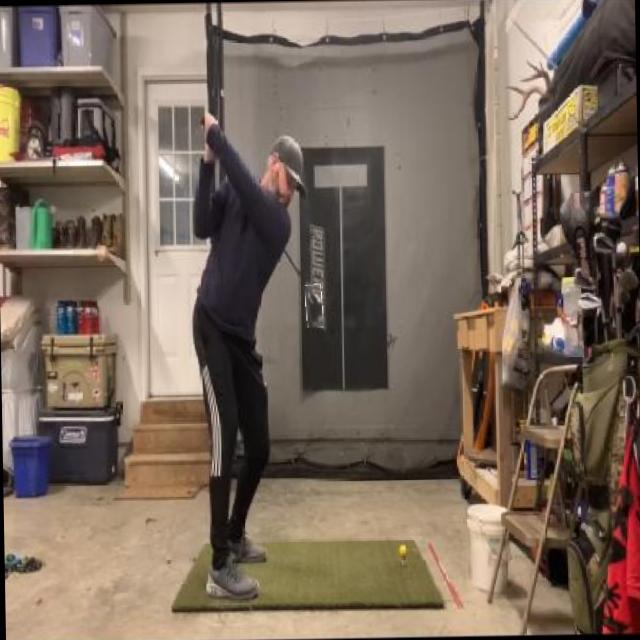club head: (304, 284, 323, 327)
